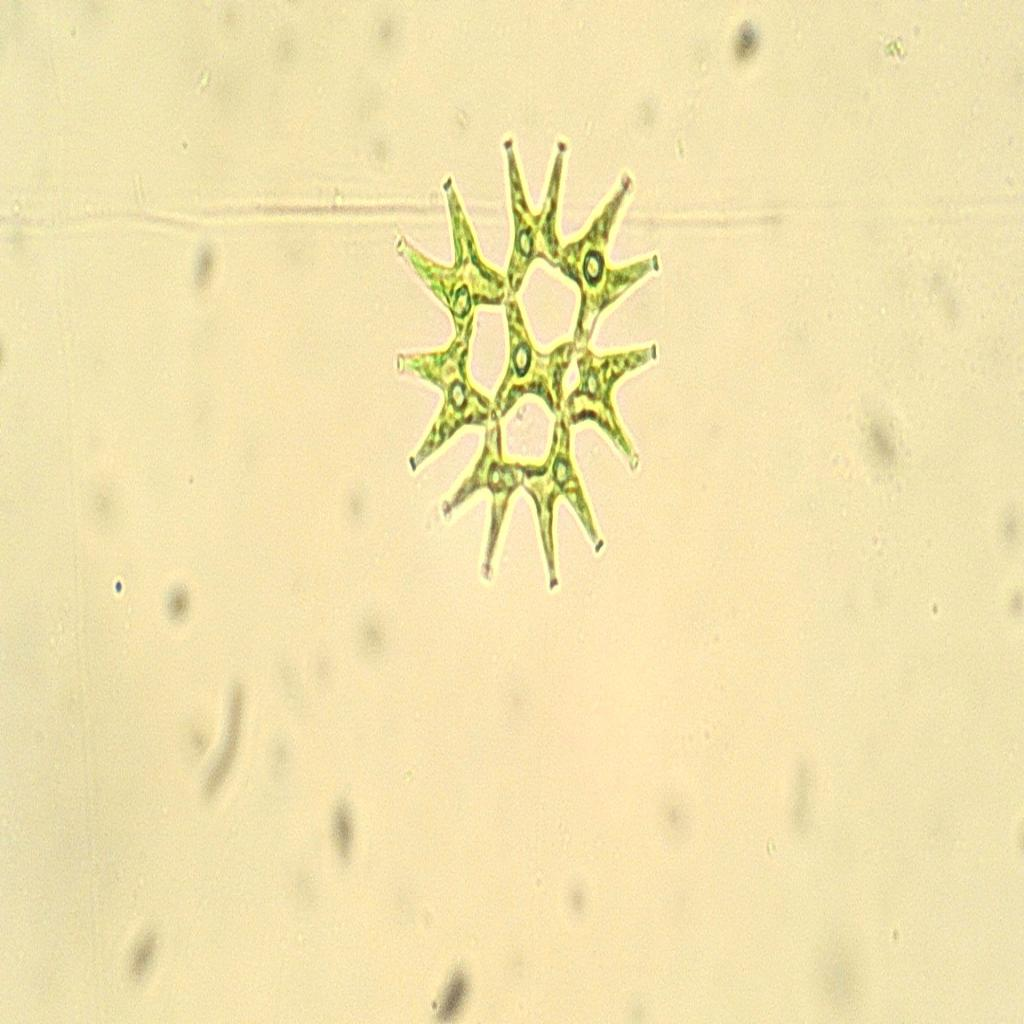Pediastrum_CTH: (374, 115, 676, 617)
